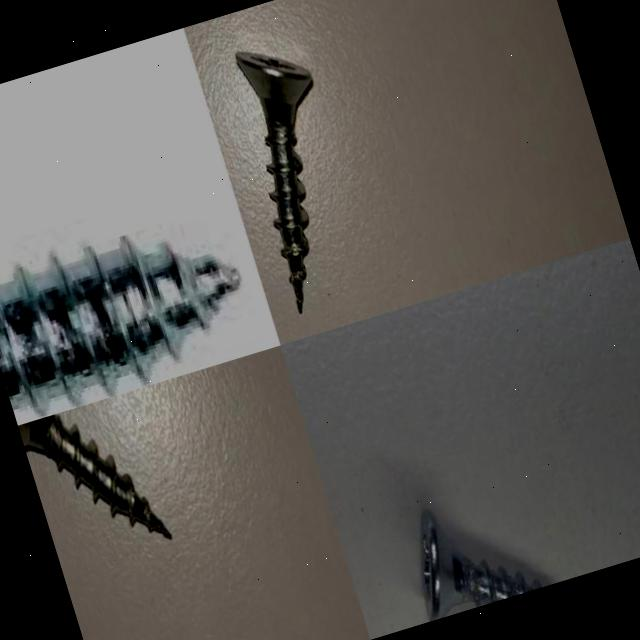Screw: (0, 238, 240, 411), (235, 50, 312, 312), (18, 413, 170, 537), (420, 507, 542, 621)
